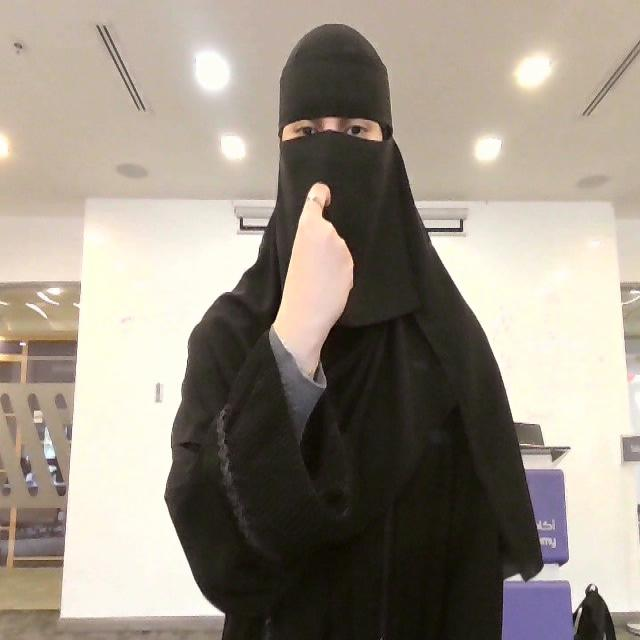medicine: (272, 180, 355, 373)
